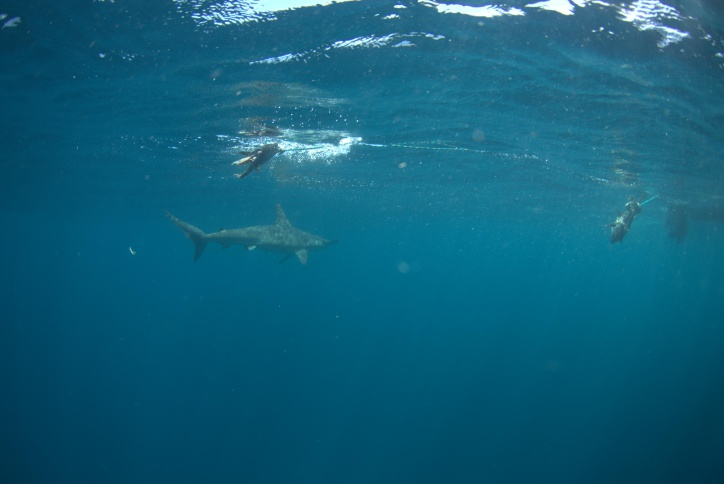Hammer: (28, 127, 439, 356), (179, 190, 360, 285)
